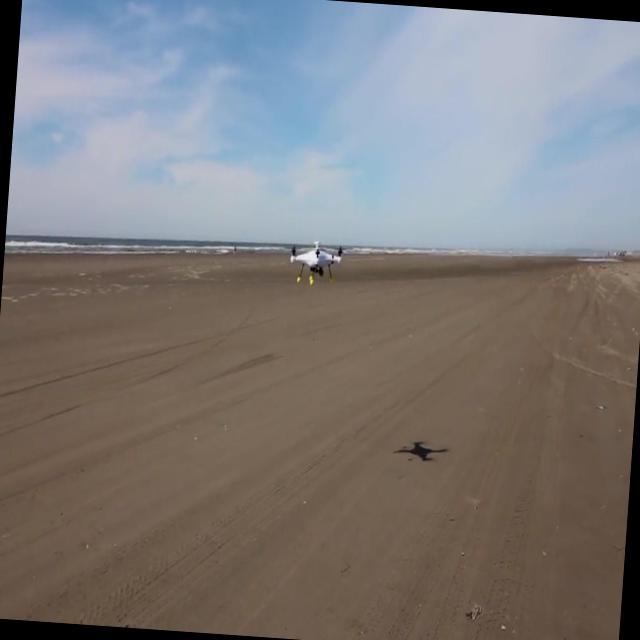drone: (285, 235, 345, 289)
